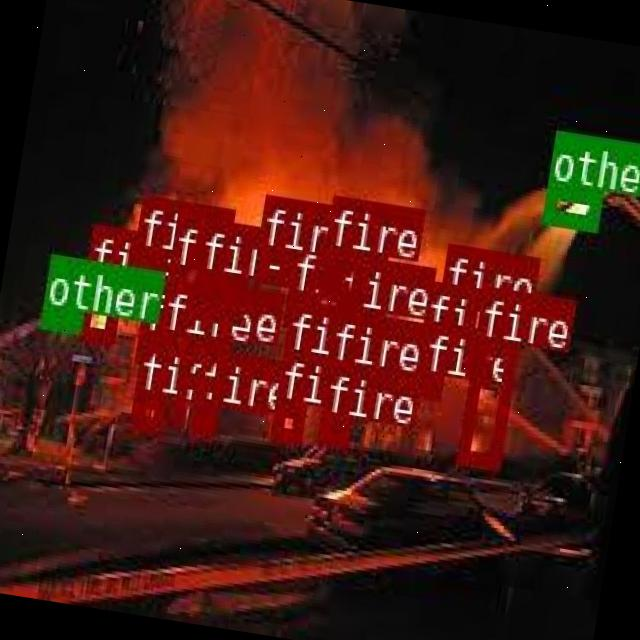fire: (456, 337, 516, 468), (174, 328, 232, 388), (188, 268, 248, 324), (435, 294, 504, 342), (76, 276, 122, 342), (316, 246, 366, 302), (126, 247, 166, 300), (326, 303, 366, 354), (322, 358, 360, 402), (270, 398, 305, 441), (252, 244, 290, 282), (282, 292, 319, 328), (130, 390, 164, 428), (315, 413, 351, 446), (190, 398, 217, 436), (280, 351, 310, 382), (164, 266, 186, 304), (133, 331, 155, 361), (418, 330, 443, 356), (414, 372, 440, 397), (155, 331, 175, 361), (170, 397, 183, 422)
